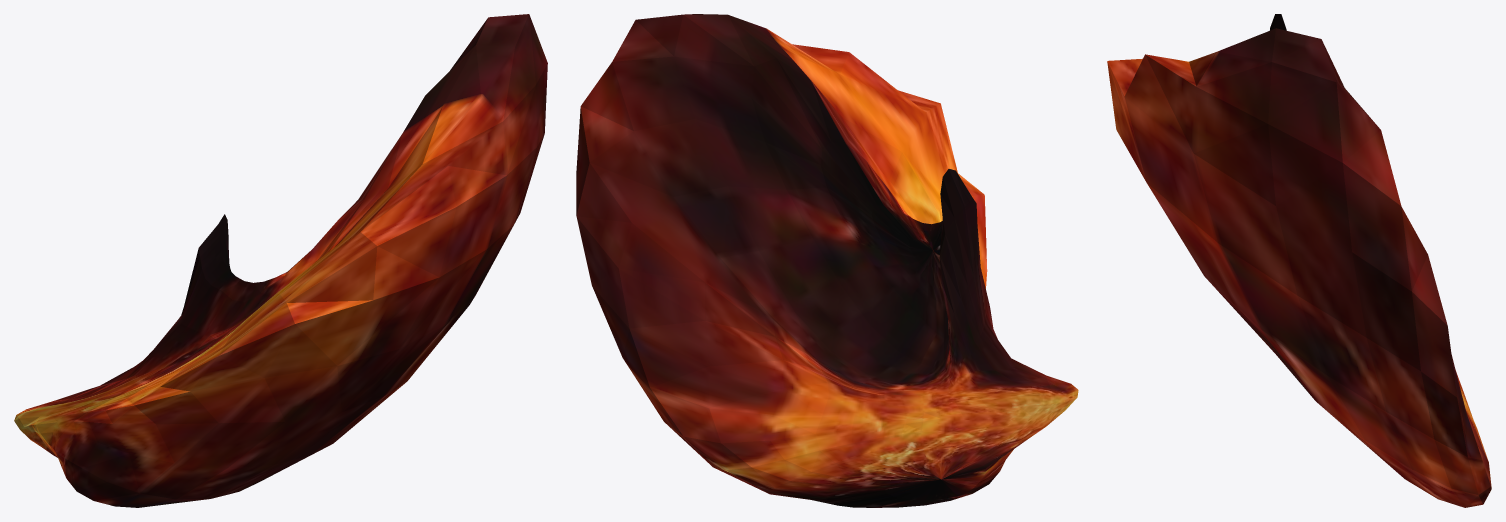
Rendered from ResultEarth4.obj.
3 views of the same model, side by side, from view 1: azimuth 30°, elevation 25°; view 2: azimuth 150°, elevation 25°; view 3: azimuth 270°, elevation 25° (orthographic). The views are drawn at different scales.
Visible parts, largest first — view 1: 球.003; view 2: 球.003; view 3: 球.003.
Boxes of the visible parts, x1,y1,x2,y2 form: 球.003: (14,14,547,507); 球.003: (576,14,1078,507); 球.003: (1107,14,1491,507).
Size of the model in its own units: 0.1044 by 0.0842 by 0.0532.
1 material, 1 textured.
